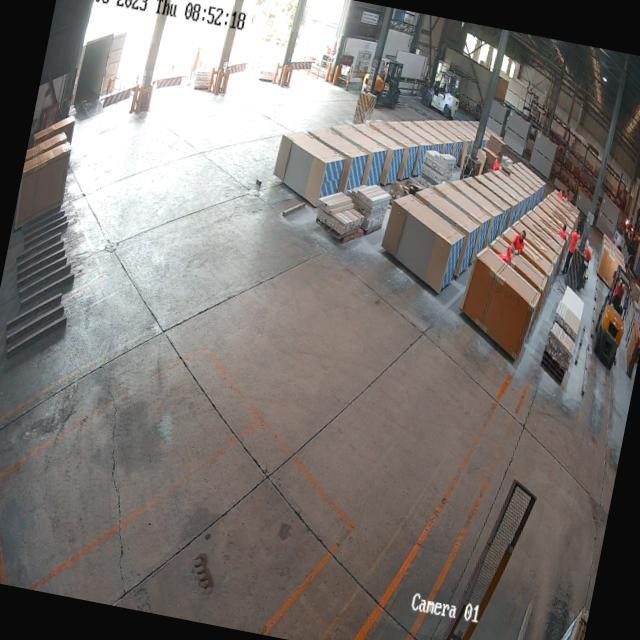driver: (614, 278, 626, 302)
forklift: (586, 260, 638, 378), (420, 66, 466, 121), (372, 56, 407, 111)
person: (560, 222, 583, 282), (510, 227, 528, 258)
